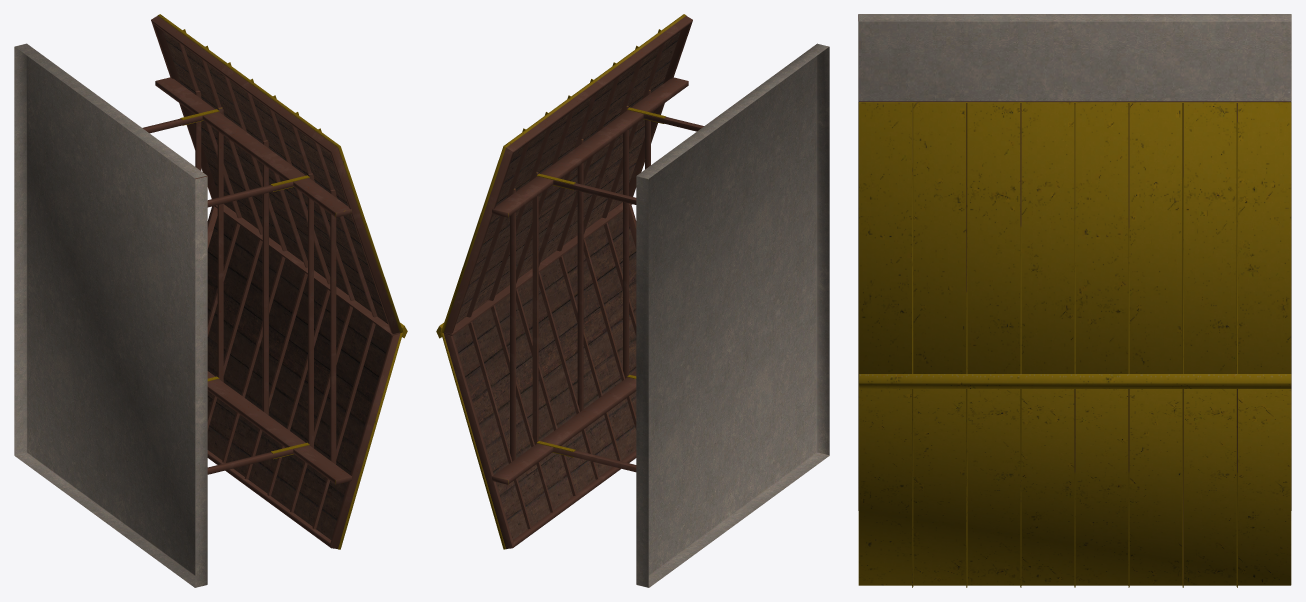
File: cP_Shelter02.dae
3 renders of one model, left to right at view 1: azimuth 30°, elevation 25°; view 2: azimuth 150°, elevation 25°; view 3: azimuth 270°, elevation 25°, orthographic. The views are drawn at different scales.
Parts seen in each view (by area): view 1: cP_Shelter02.001; view 2: cP_Shelter02.001; view 3: cP_Shelter02.001.
Part boxes in pixels (bbox=[...]): cP_Shelter02.001: bbox=[14, 14, 407, 587]; cP_Shelter02.001: bbox=[436, 14, 829, 587]; cP_Shelter02.001: bbox=[858, 14, 1291, 587].
Bounding box in the file's own units: 5.44 × 8.01 × 10.
